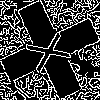X: (25, 25, 81, 74)
